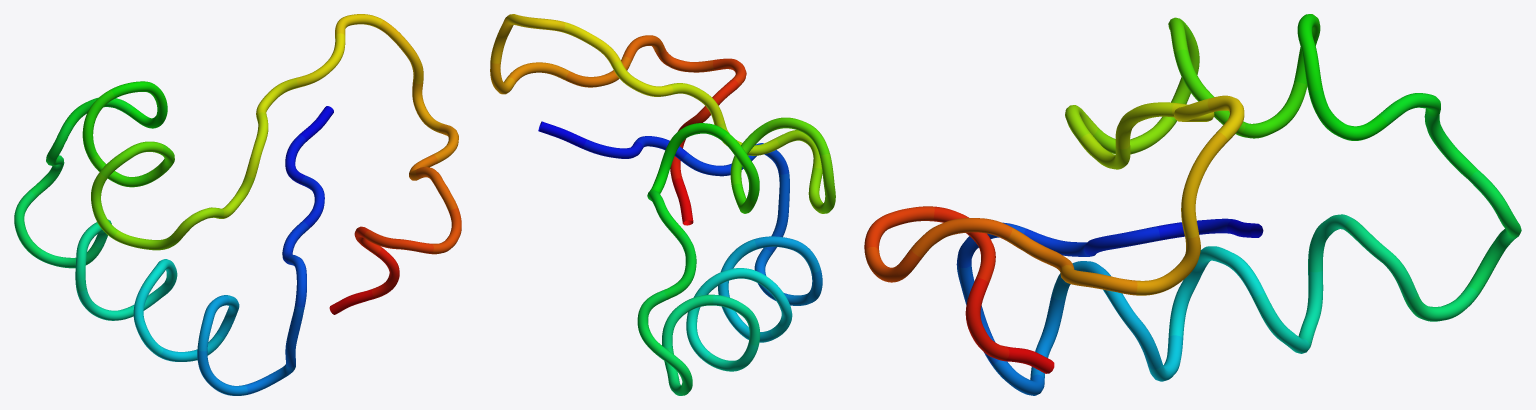
The model's file is CR_1CRN.fbx.
3 views of the same model, side by side, from view 1: azimuth 30°, elevation 25°; view 2: azimuth 150°, elevation 25°; view 3: azimuth 270°, elevation 25° (orthographic). The views are drawn at different scales.
Visible parts, largest first — view 1: 1CRN_0; view 2: 1CRN_0; view 3: 1CRN_0.
Boxes of the visible parts, x1,y1,x2,y2 form: 1CRN_0: [14, 14, 461, 395]; 1CRN_0: [490, 14, 835, 395]; 1CRN_0: [864, 14, 1521, 395].
Size of the model in its own units: 22.31 by 18.05 by 26.51.
